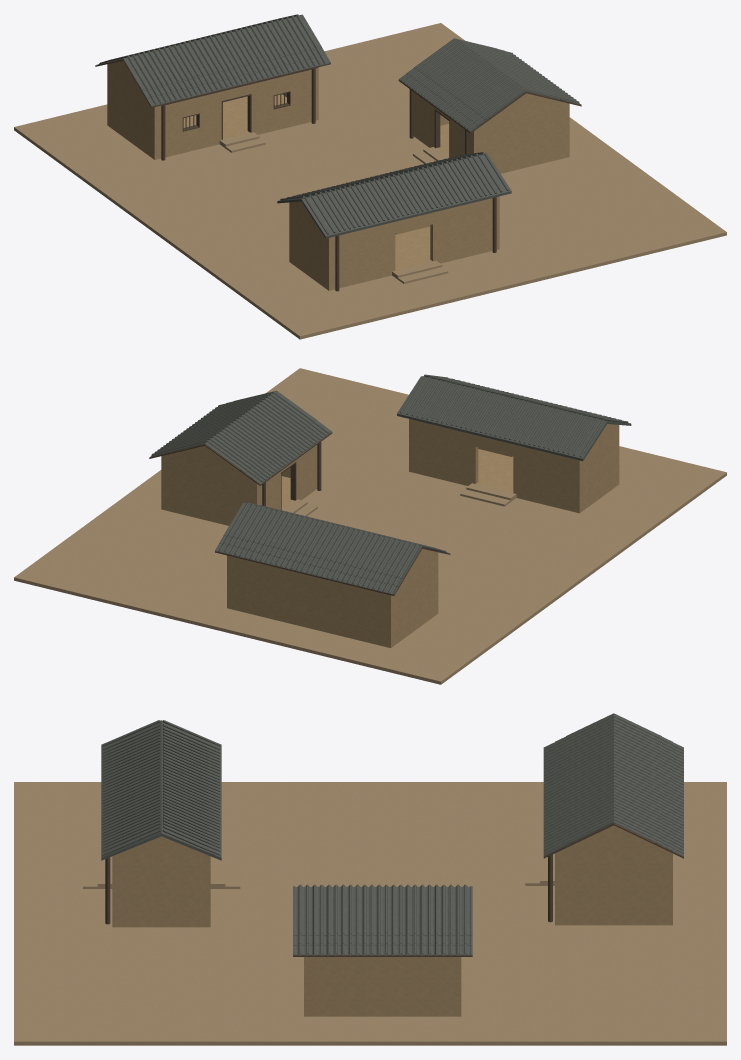
File: z09-civic-A-LOD0.glb
The picture shows the model from 3 angles, top to bottom: view 1: azimuth 30°, elevation 25°; view 2: azimuth 150°, elevation 25°; view 3: azimuth 270°, elevation 25°; orthographic projection. The views are drawn at different scales.
Visible parts, largest first — view 1: Z09_batched_Z09_NEW_court_and_steps, Z09_batched_LY_P01_earth__PBR, Z09_batched_LY_P01_tile__PBR, Z09_batched_LY_P01_timber__PBR; view 2: Z09_batched_Z09_NEW_court_and_steps, Z09_batched_LY_P01_earth__PBR, Z09_batched_LY_P01_tile__PBR, Z09_batched_LY_P01_timber__PBR; view 3: Z09_batched_Z09_NEW_court_and_steps, Z09_batched_LY_P01_tile__PBR, Z09_batched_LY_P01_earth__PBR, Z09_batched_LY_P01_timber__PBR.
Part boxes in pixels (x1,y1,x2,y2): Z09_batched_Z09_NEW_court_and_steps: (14, 23, 726, 339); Z09_batched_LY_P01_earth__PBR: (107, 60, 569, 290); Z09_batched_LY_P01_tile__PBR: (95, 14, 581, 238); Z09_batched_LY_P01_timber__PBR: (95, 59, 581, 291); Z09_batched_Z09_NEW_court_and_steps: (14, 368, 726, 684); Z09_batched_LY_P01_earth__PBR: (161, 419, 619, 647); Z09_batched_LY_P01_tile__PBR: (149, 374, 631, 594); Z09_batched_LY_P01_timber__PBR: (149, 432, 450, 595); Z09_batched_Z09_NEW_court_and_steps: (14, 782, 726, 1045); Z09_batched_LY_P01_tile__PBR: (101, 713, 683, 955); Z09_batched_LY_P01_earth__PBR: (112, 825, 672, 1016); Z09_batched_LY_P01_timber__PBR: (105, 823, 683, 956).
Bounding box in the file's own units: 25 × 5.09 × 29.
Materials: 4 (4 with a texture image).
